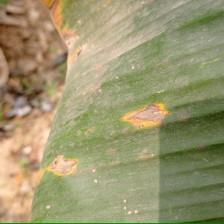cordana: (31, 0, 224, 224)
